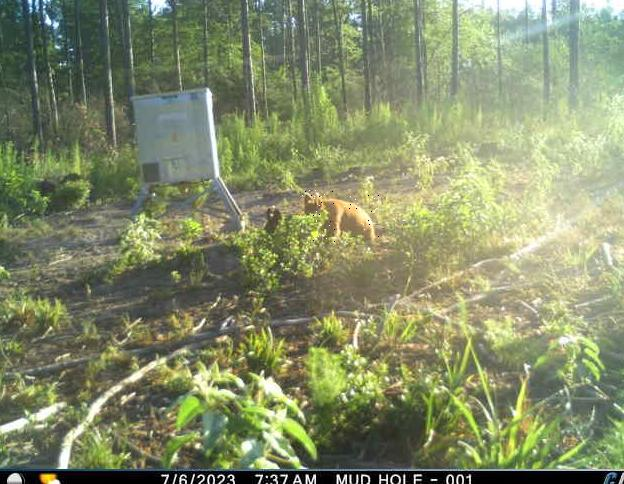Hog: (301, 190, 381, 243)
